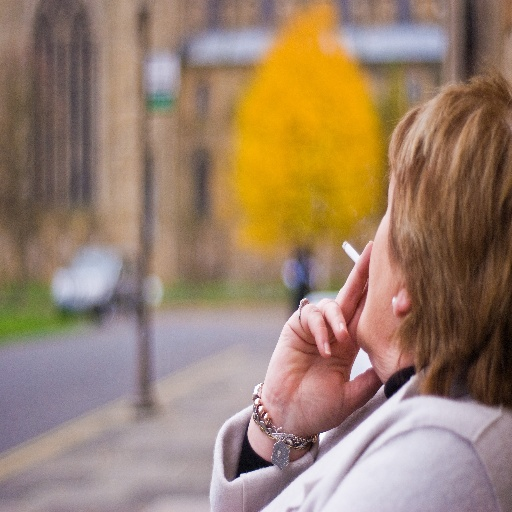hand: (240, 290, 382, 470)
